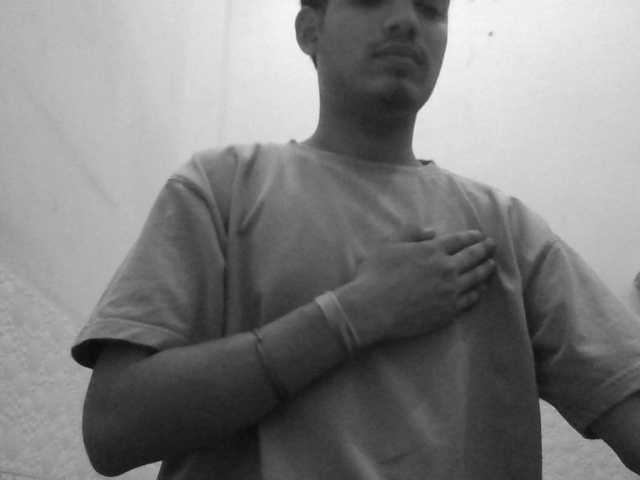Sorry: (331, 200, 574, 355)
